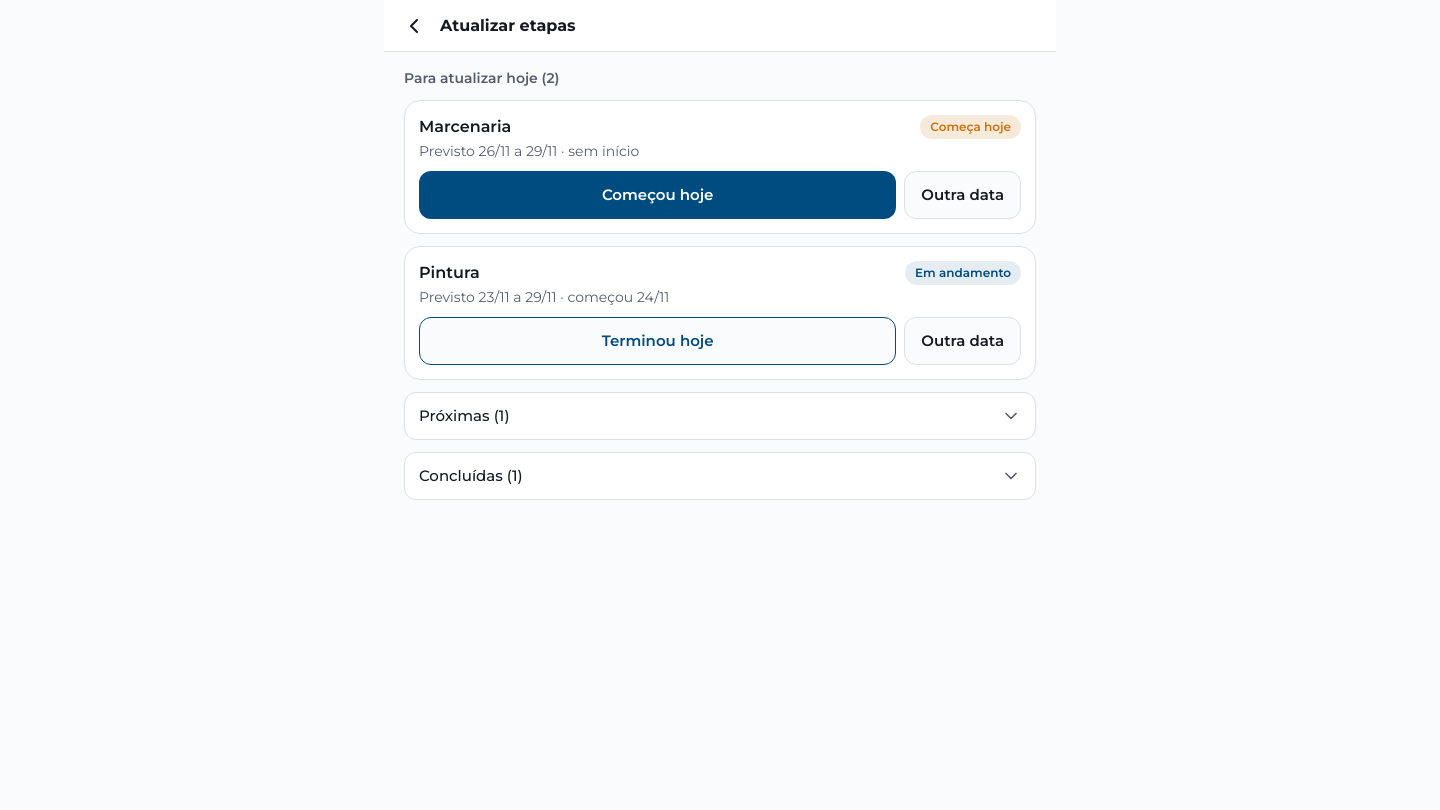
Atualizar etapas › "Outra data" abre a gaveta; ontem no término é salvo
Later steps or results of the test are not shown.
Click the button "Outra data" below "Previsto 23/11 a 29/11 · começou 24/11" at [963, 341], box x1=904 y1=317 x2=1021 y2=365
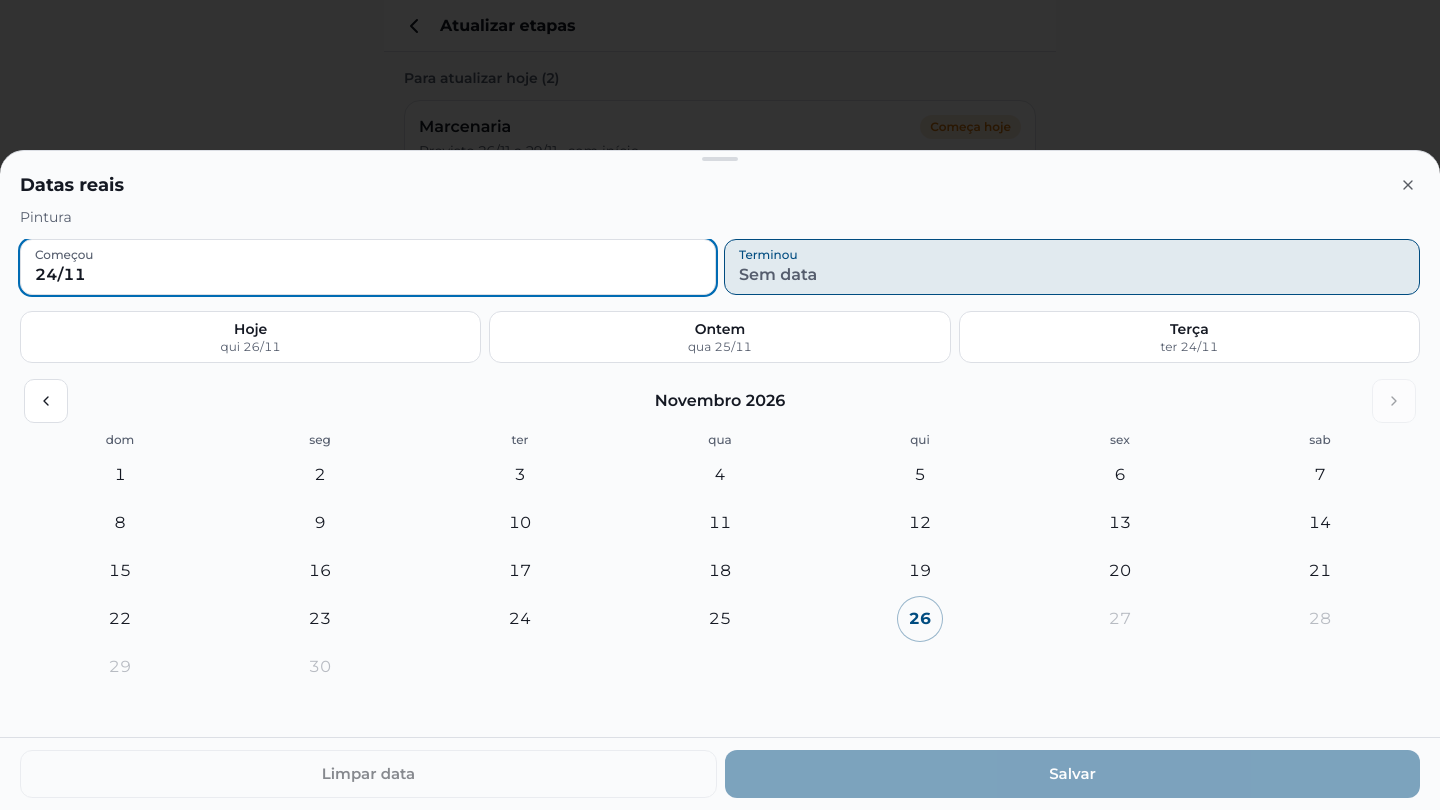
Now the button "Salvar" is disabled, box x1=725 y1=750 x2=1420 y2=798
Click the button "Ontem qua 25/11" at [720, 337], box x1=489 y1=311 x2=951 y2=363
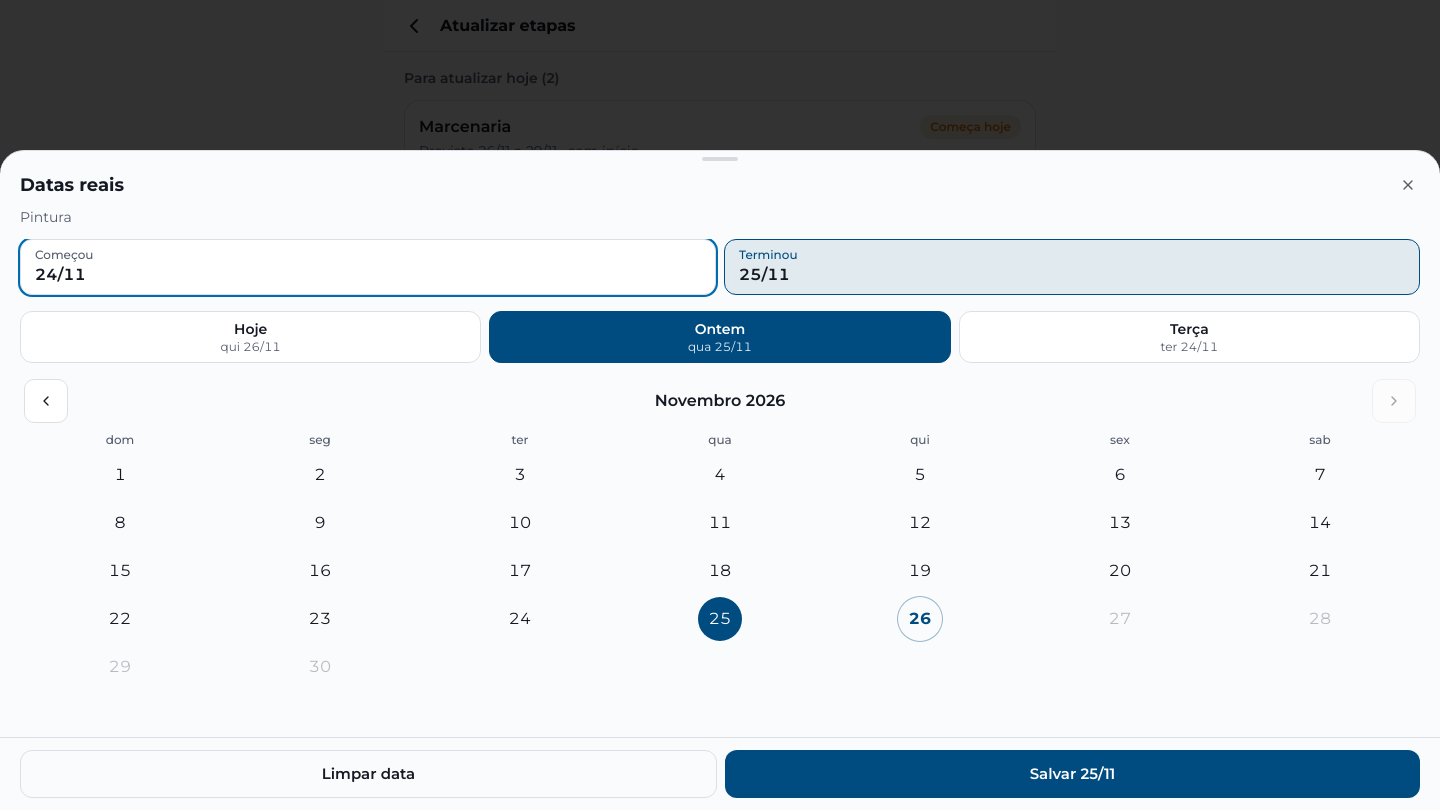
Now the button "Salvar 25/11" is enabled, box x1=725 y1=750 x2=1420 y2=798
